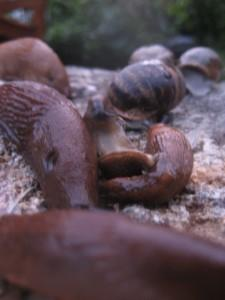slug: (17, 9, 214, 260)
